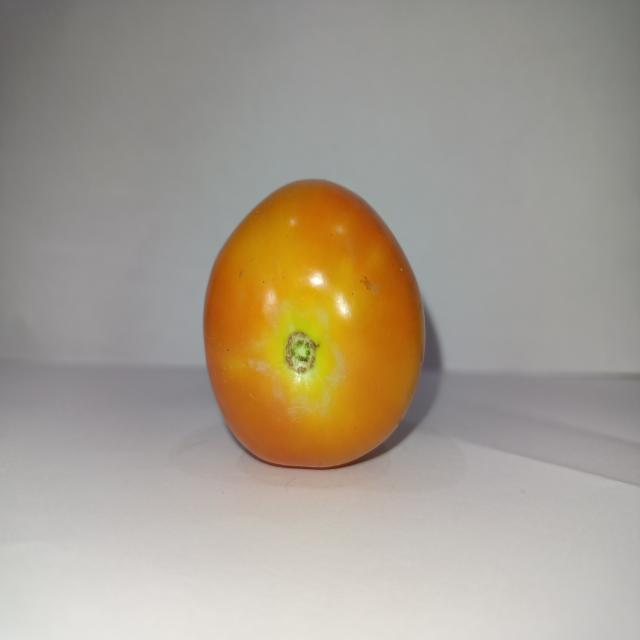Red: (201, 177, 426, 469)
